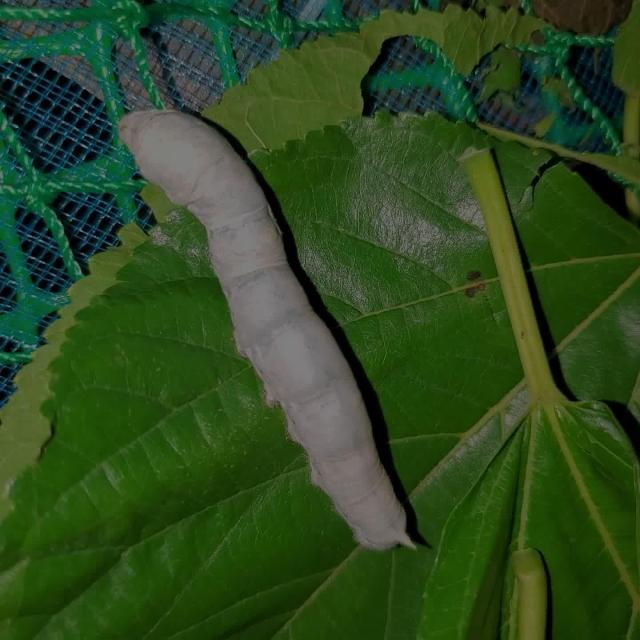Healthy: (112, 102, 418, 568)
